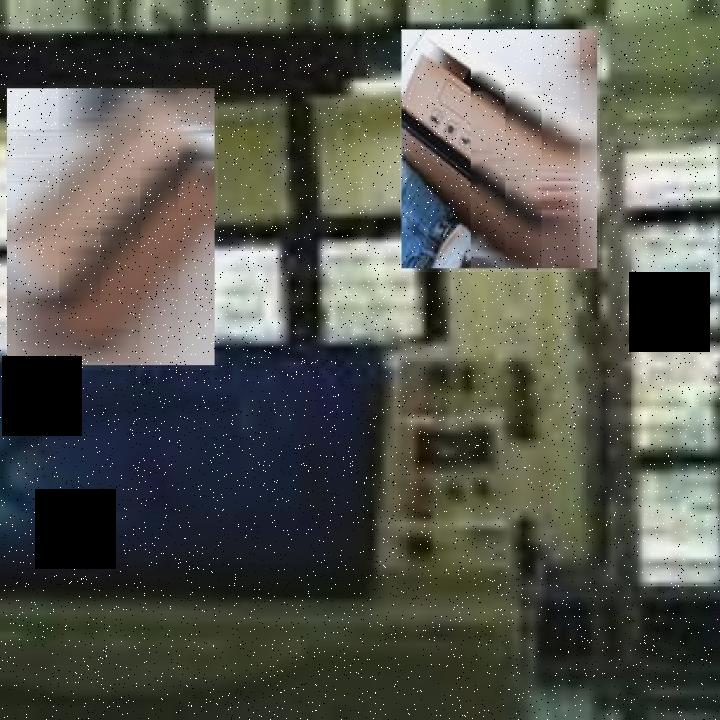box: (5, 85, 218, 370), (400, 27, 600, 272)
